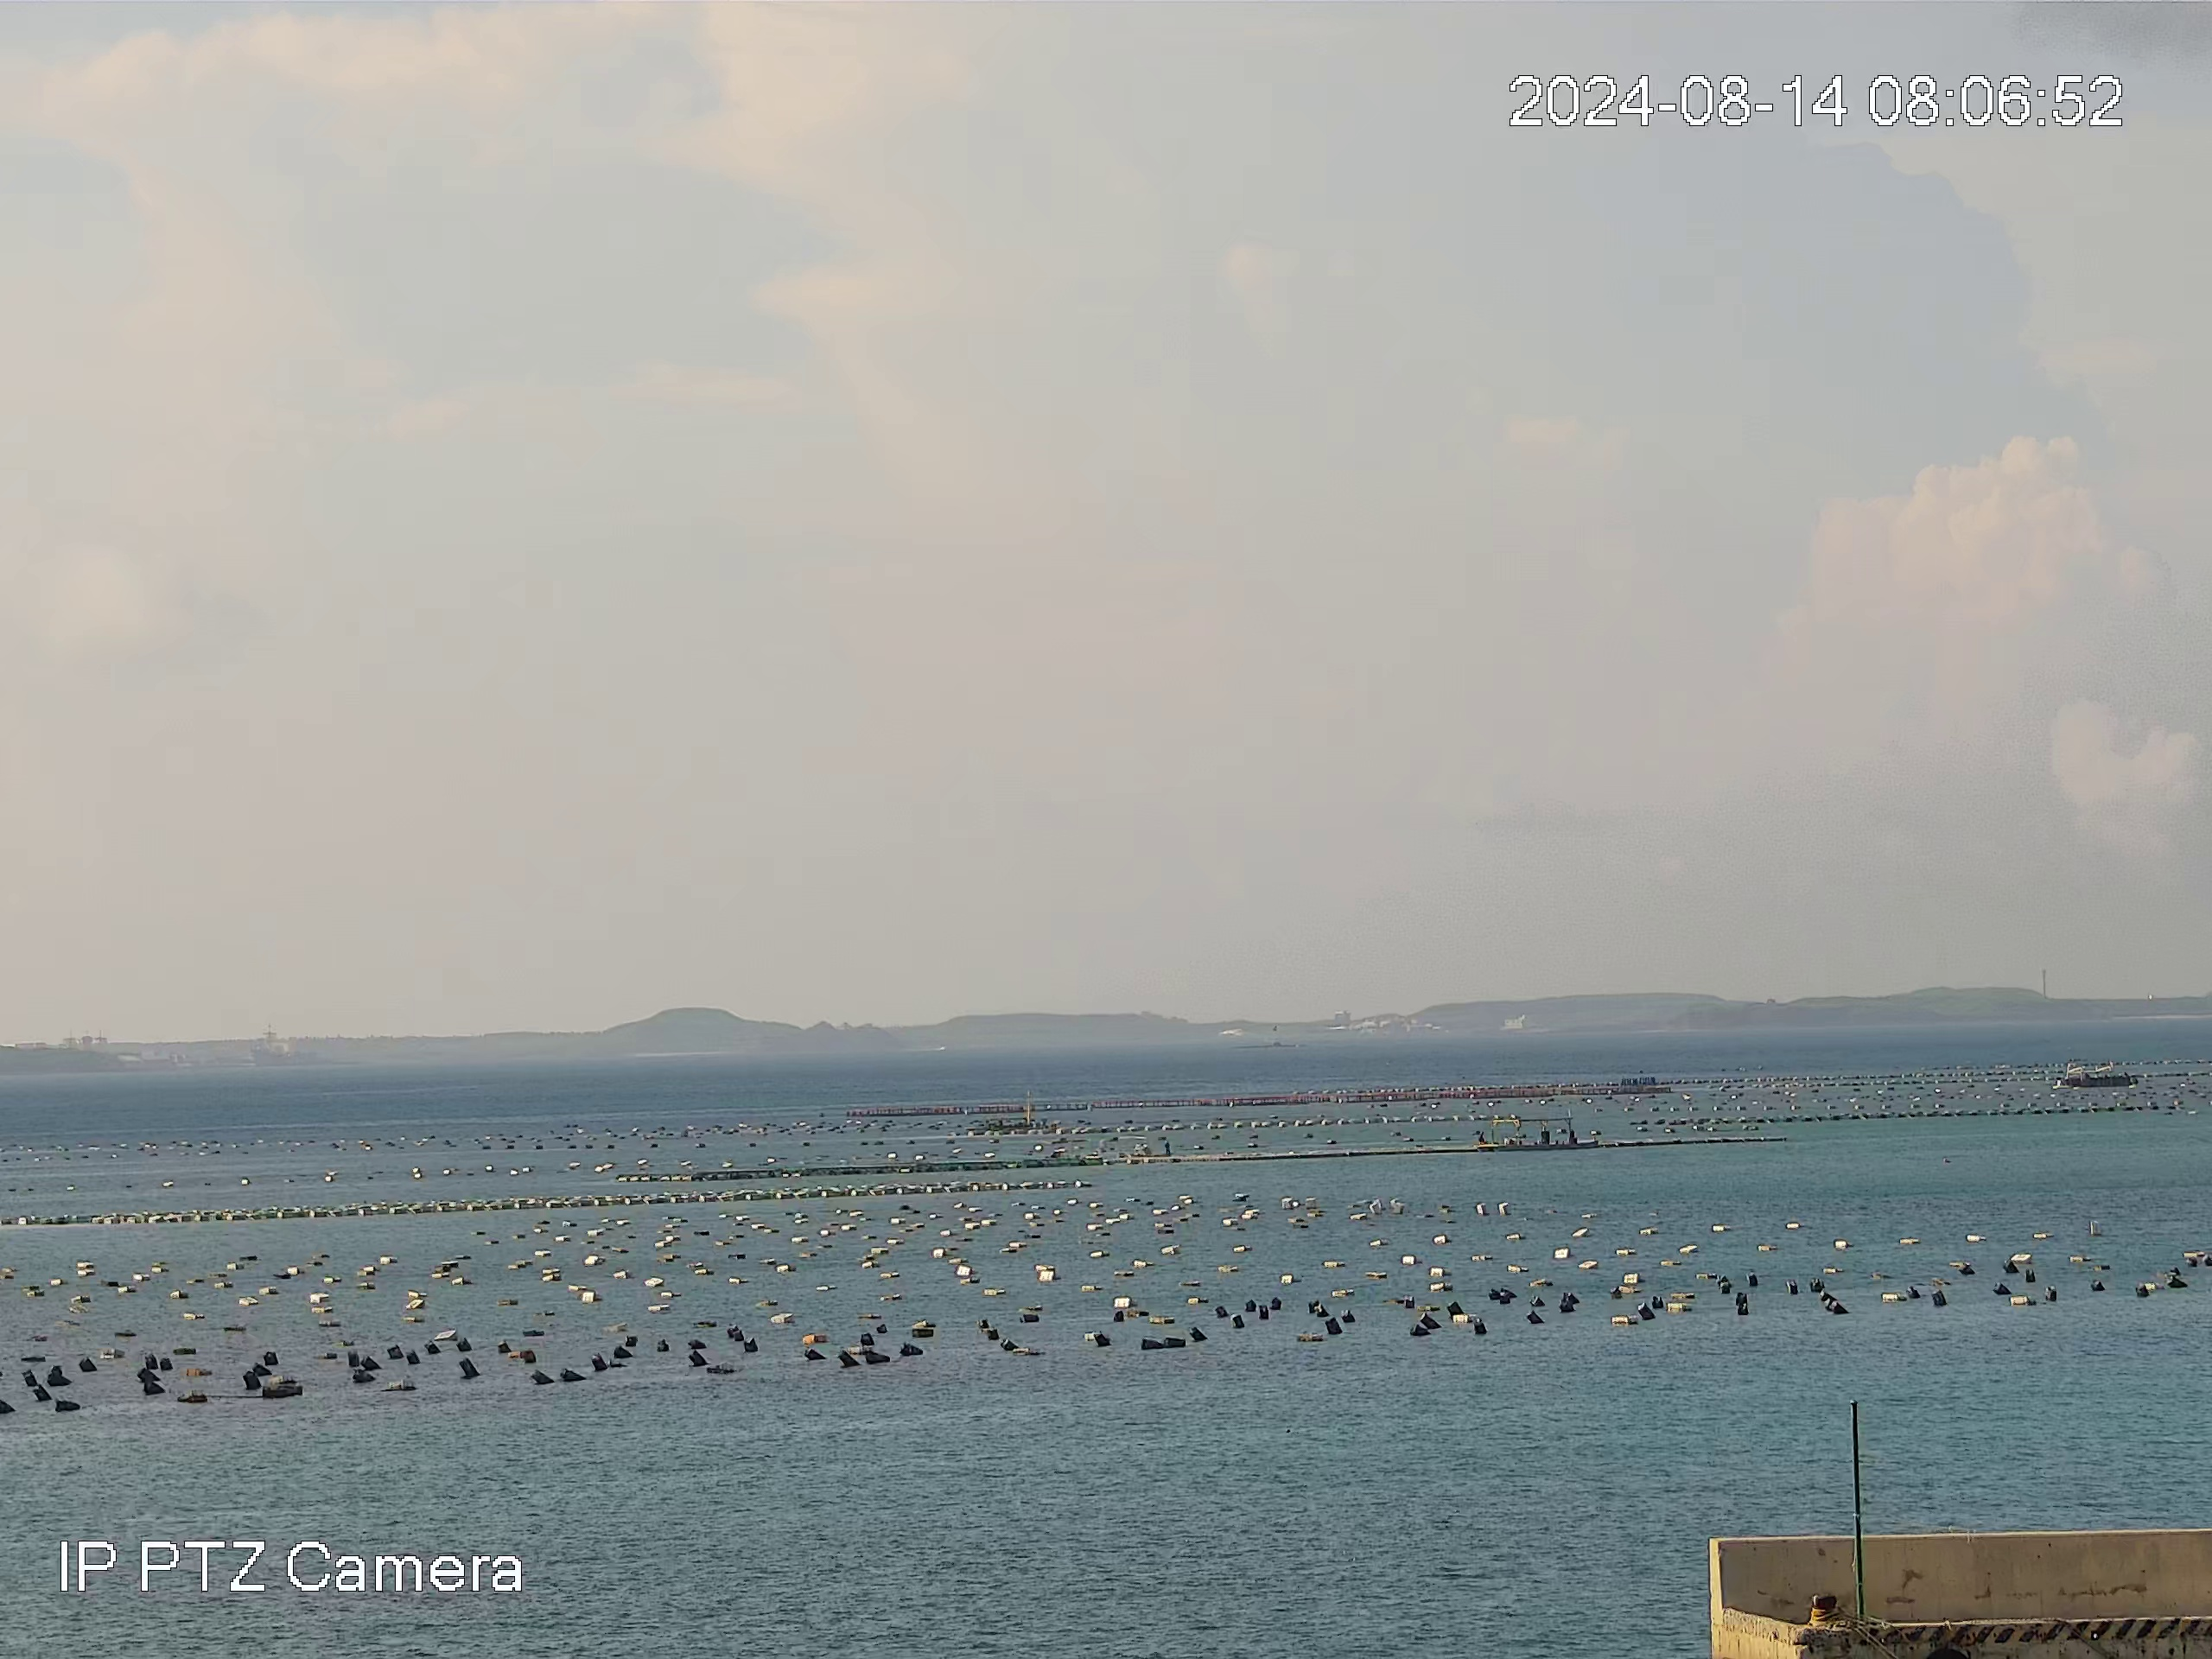boat: (1475, 1112, 1602, 1154), (2057, 1065, 2139, 1087)
